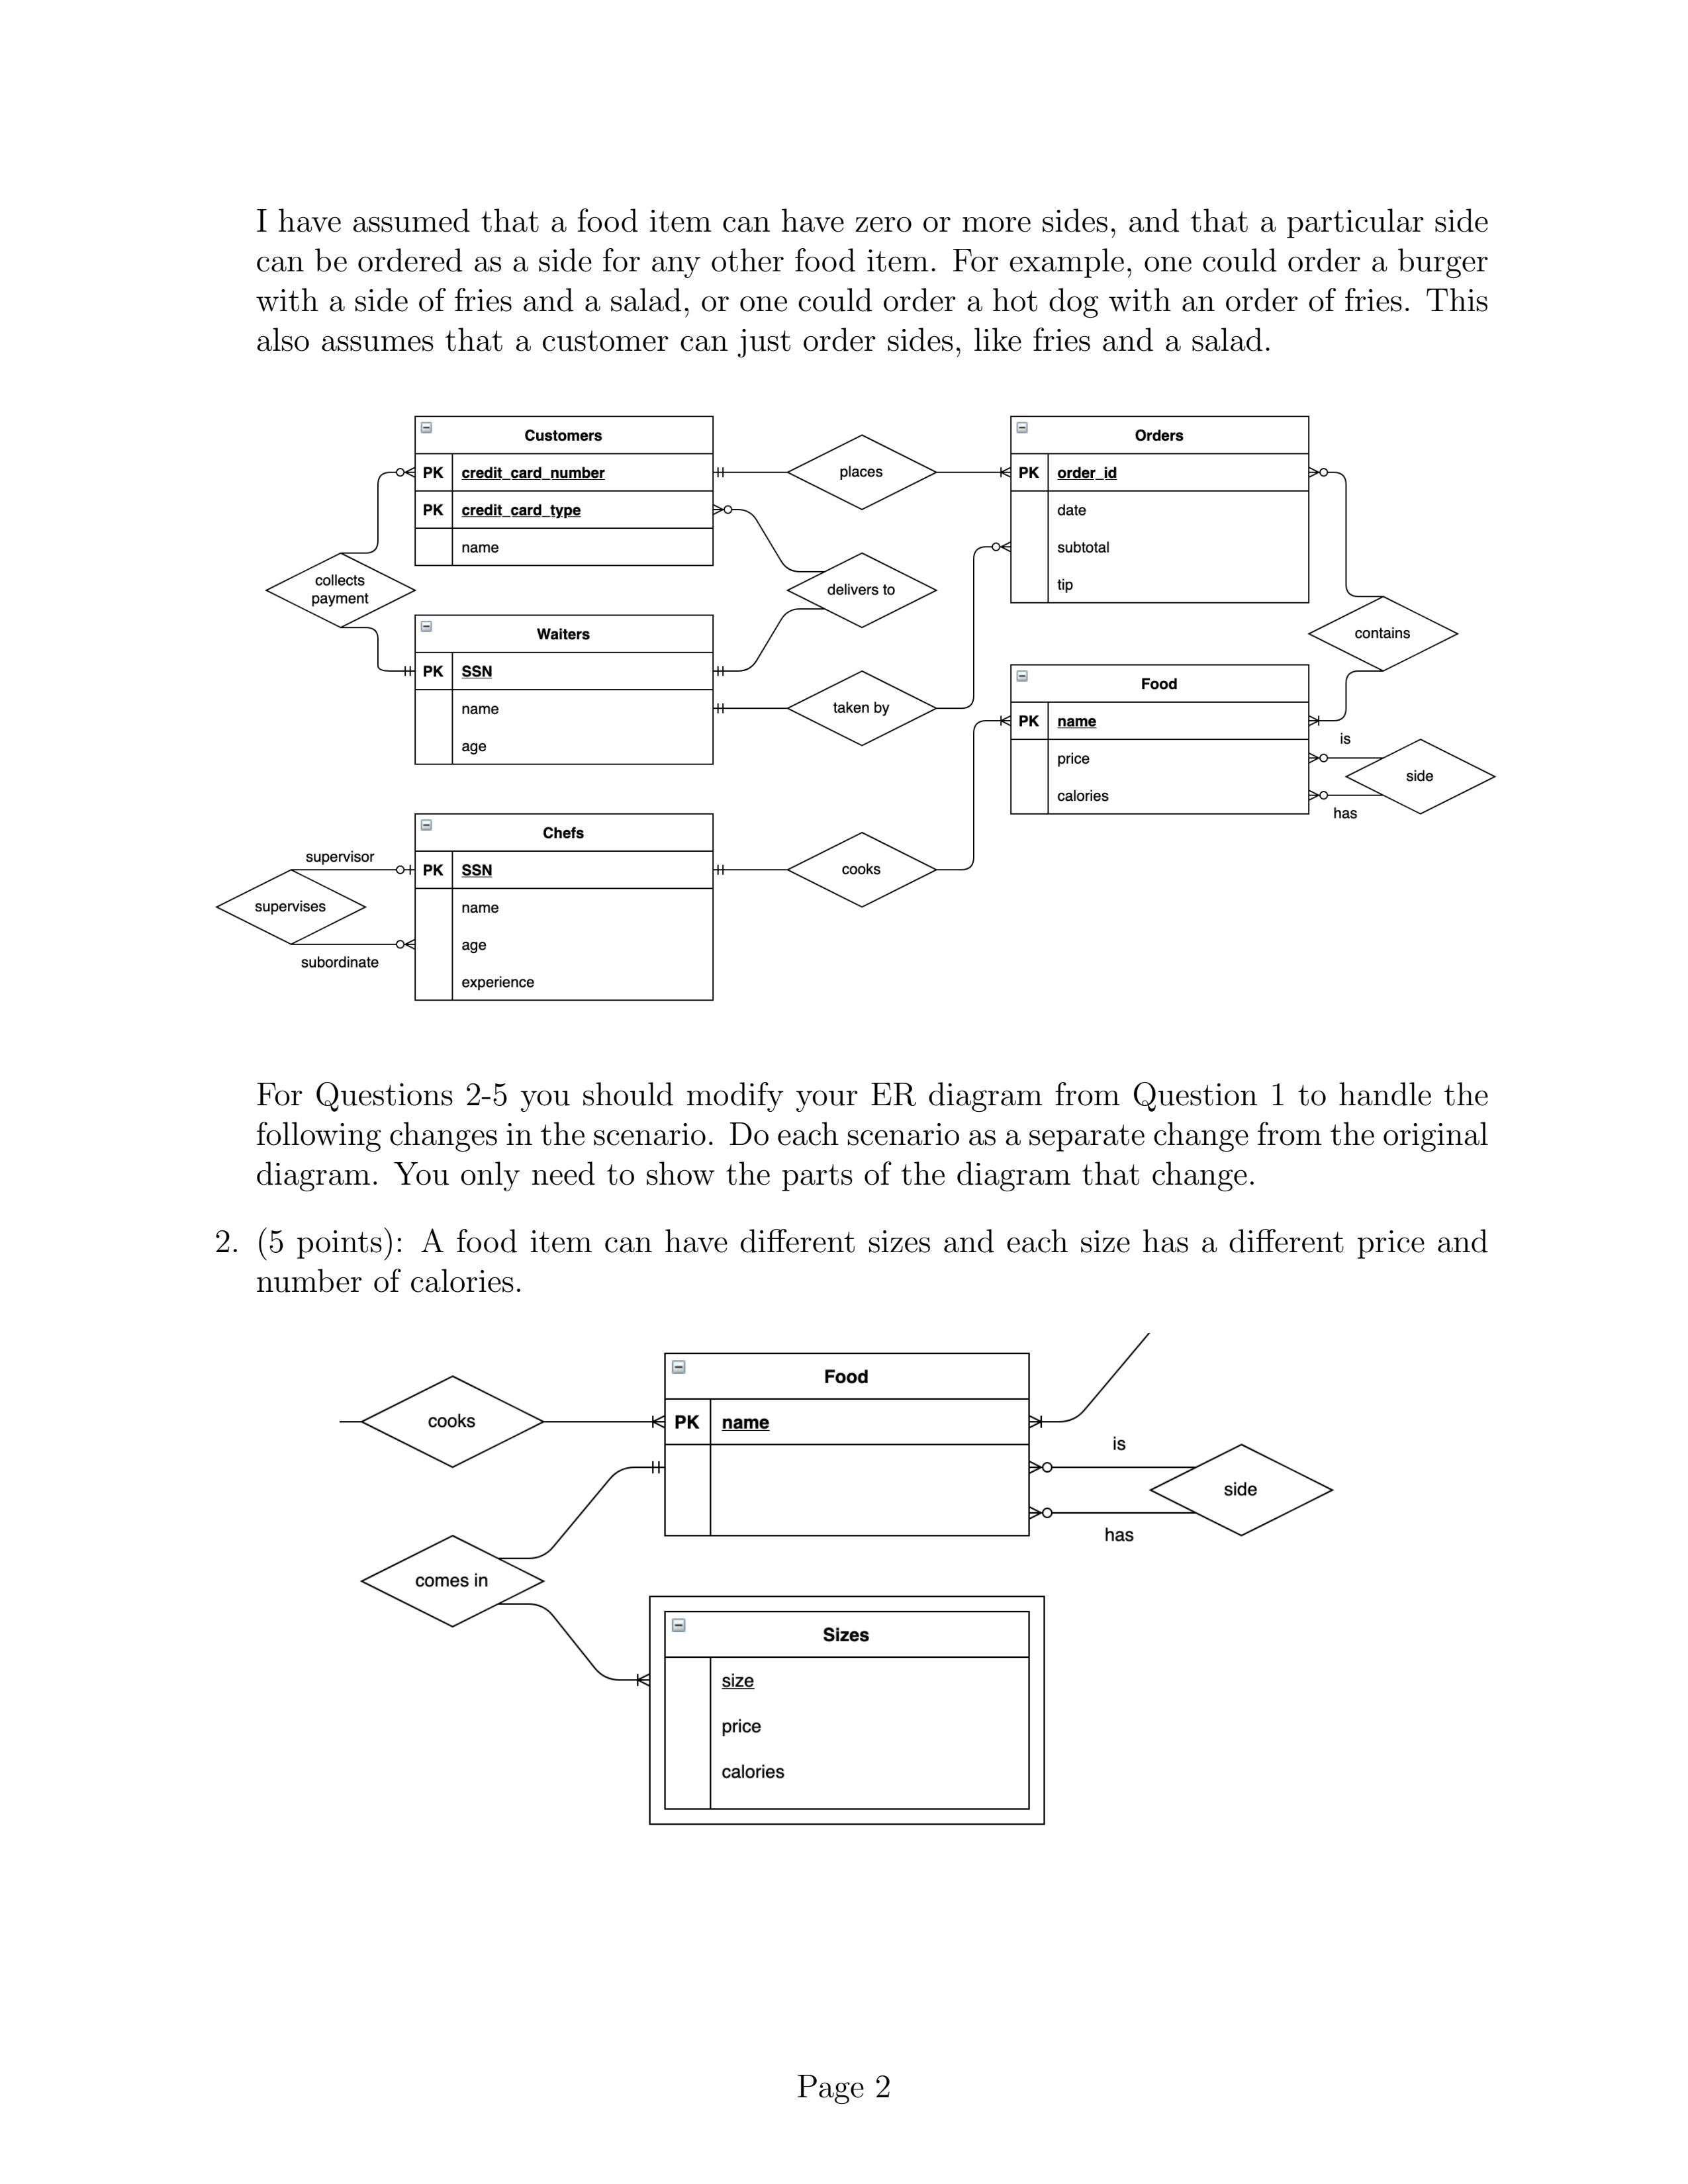Entity: (663, 1610, 1032, 1812), (663, 1351, 1032, 1537), (413, 812, 715, 1003), (1009, 415, 1310, 604), (413, 415, 715, 567), (413, 613, 715, 766), (1011, 663, 1310, 815)
Relationship: (360, 1535, 546, 1627), (360, 1376, 544, 1468), (1149, 1445, 1333, 1537), (215, 869, 367, 945), (785, 551, 938, 628), (1344, 737, 1495, 814), (787, 831, 936, 908), (1309, 596, 1457, 672), (264, 553, 415, 628), (789, 434, 936, 511), (787, 672, 936, 745)
